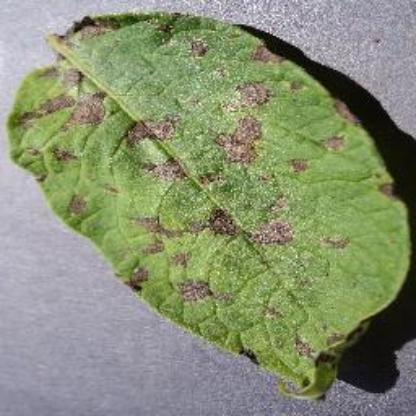Early-Blight: (8, 8, 416, 400)
